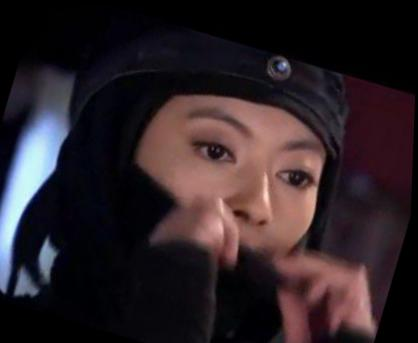WRONG: (89, 75, 342, 314)
